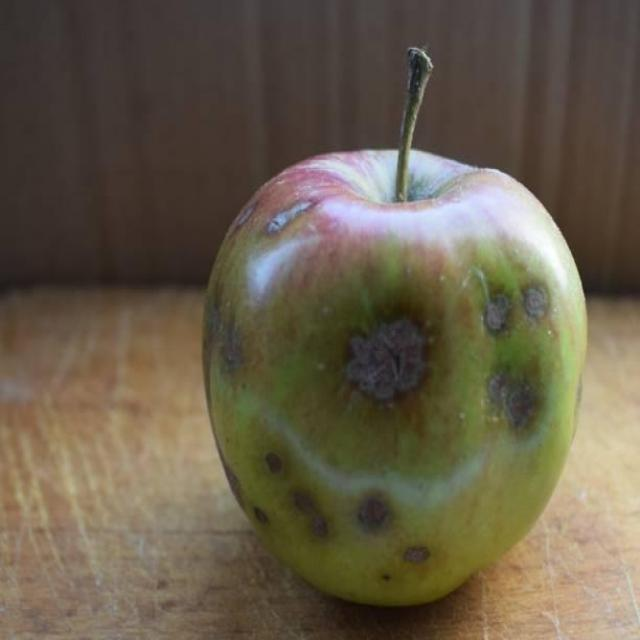Banana: (205, 142, 572, 615)
